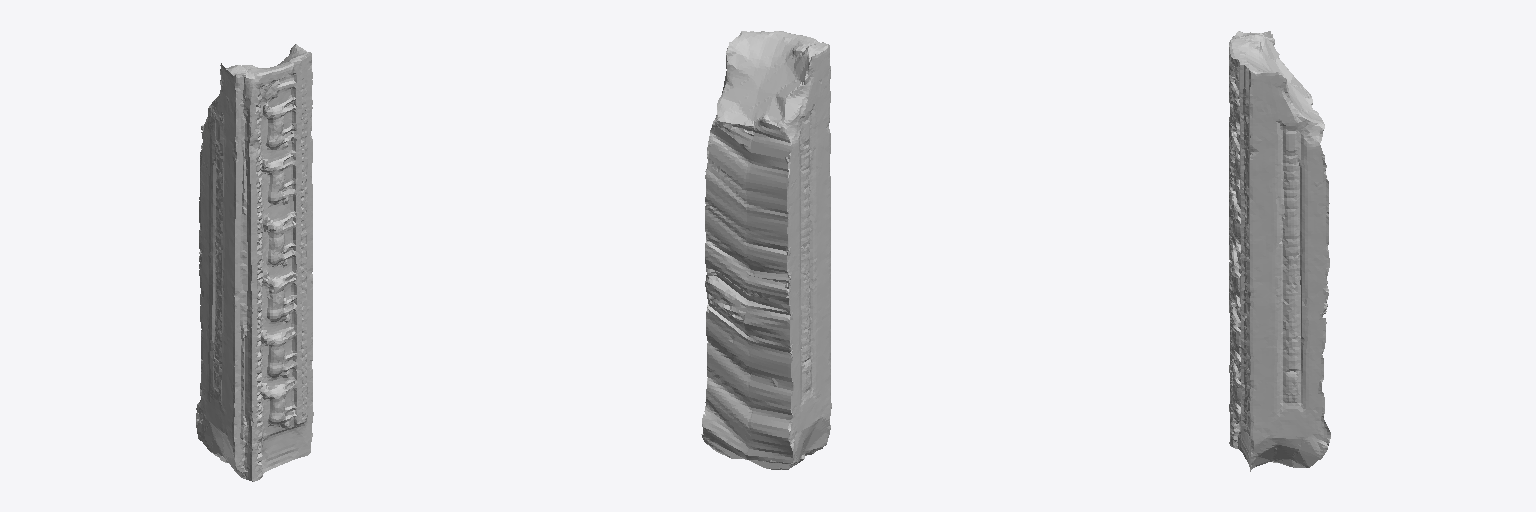
Rendered from laemmerfries_07_finished.obj.
3 views of the same model, side by side, from view 1: azimuth 30°, elevation 25°; view 2: azimuth 150°, elevation 25°; view 3: azimuth 270°, elevation 25° (orthographic).
Visible parts, largest first — view 1: fries_07_fixsize; view 2: fries_07_fixsize; view 3: fries_07_fixsize.
Part boxes in pixels (x1,y1,x2,y2): fries_07_fixsize: (196,44,313,481); fries_07_fixsize: (701,31,831,469); fries_07_fixsize: (1229,31,1330,471).
Bounding box in the file's own units: 1.09 × 5.03 × 1.13.